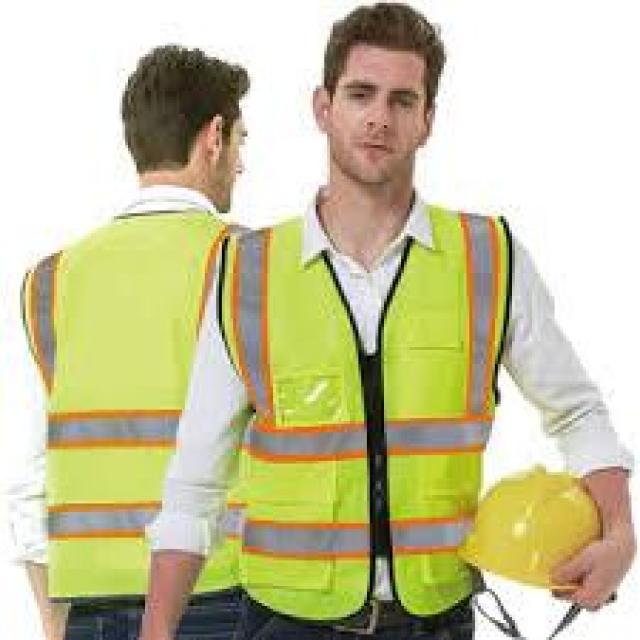Reflective-Jacket: (211, 199, 526, 629), (17, 194, 225, 620)
Safety-Helmet: (450, 458, 621, 599)
